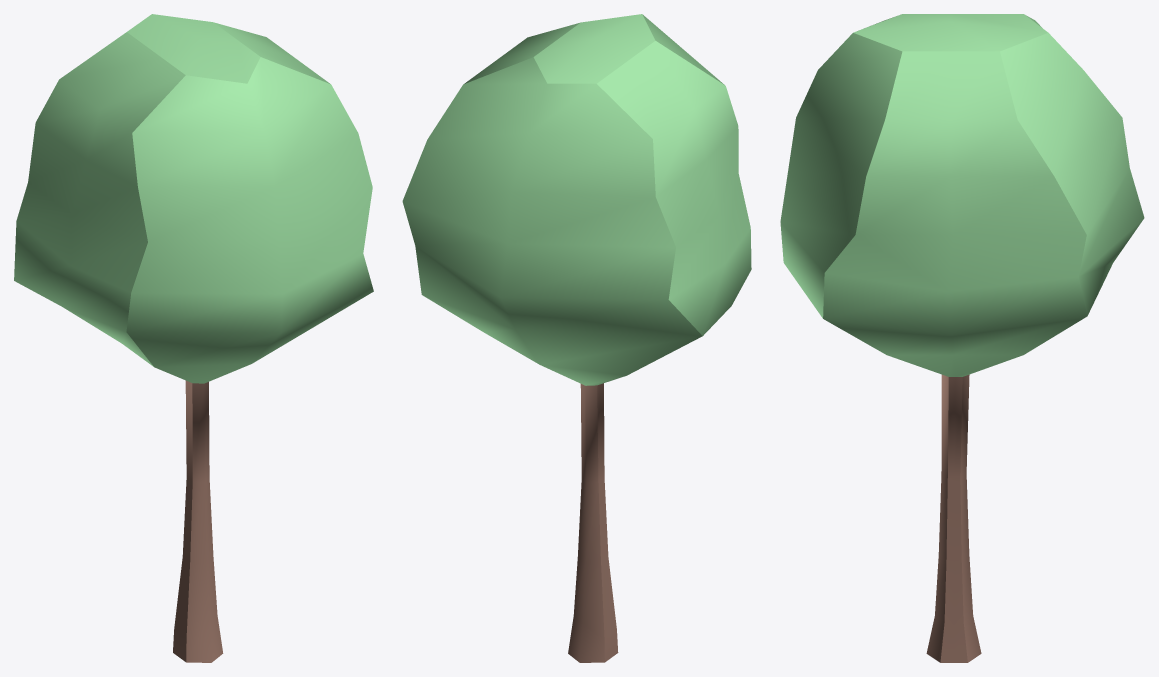
Rendered from tree4.fbx.
The picture shows the model from 3 angles, left to right: view 1: azimuth 30°, elevation 25°; view 2: azimuth 150°, elevation 25°; view 3: azimuth 270°, elevation 25°; orthographic projection. The views are drawn at different scales.
Visible parts, largest first — view 1: tree4; view 2: tree4; view 3: tree4.
Part boxes in pixels (<box>): tree4: <box>14,14,373,662</box>; tree4: <box>402,14,751,662</box>; tree4: <box>780,14,1144,662</box>.
Size of the model in its own units: 22.11 by 44.73 by 23.36.
